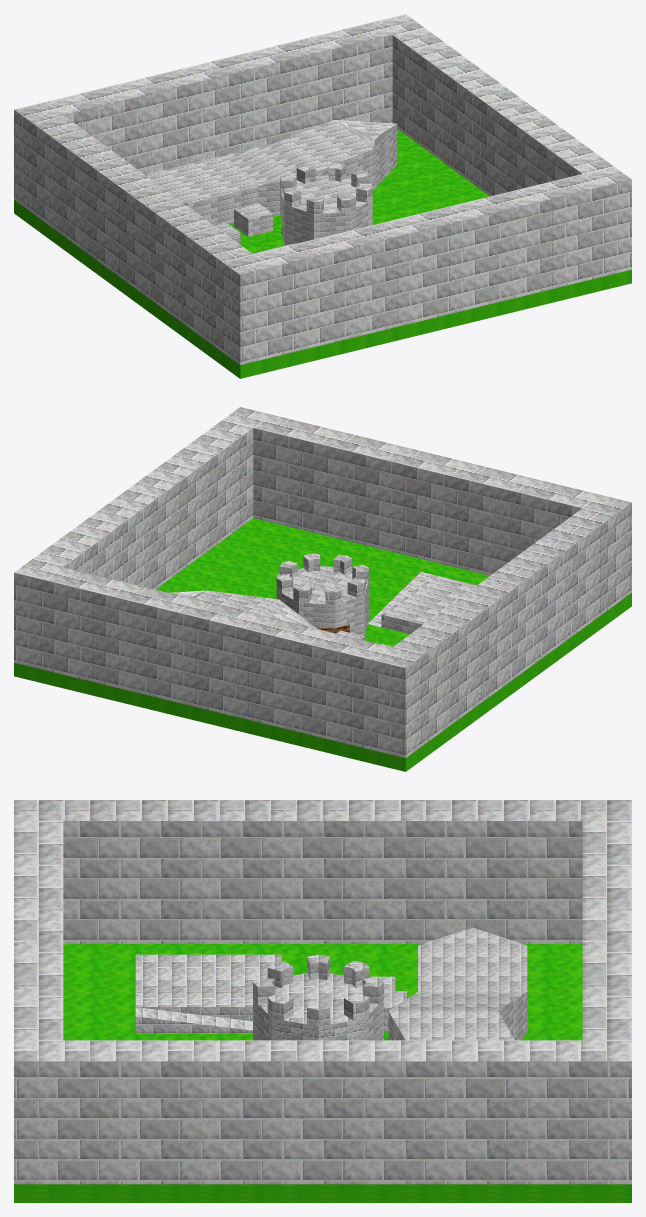
File: Door.fbx
The picture shows the model from 3 angles, top to bottom: view 1: azimuth 30°, elevation 25°; view 2: azimuth 150°, elevation 25°; view 3: azimuth 270°, elevation 25°; orthographic projection. The views are drawn at different scales.
Visible parts, largest first — view 1: Cube, Platforms, Tower; view 2: Cube, Tower, Platform, Platforms; view 3: Cube, Platforms, Platform, Tower.
Part boxes in pixels (<box>): Cube: <box>14,14,631,378</box>; Platforms: <box>147,120,397,243</box>; Tower: <box>280,163,372,245</box>; Cube: <box>14,407,631,771</box>; Tower: <box>276,553,369,636</box>; Platform: <box>368,572,476,634</box>; Platforms: <box>169,590,392,647</box>; Cube: <box>14,800,631,1202</box>; Platforms: <box>369,927,527,1040</box>; Platform: <box>135,954,281,1033</box>; Tower: <box>253,954,383,1040</box>.
Size of the model in its own units: 3000 by 759 by 3000.
Materials: 3 (3 with a texture image).
